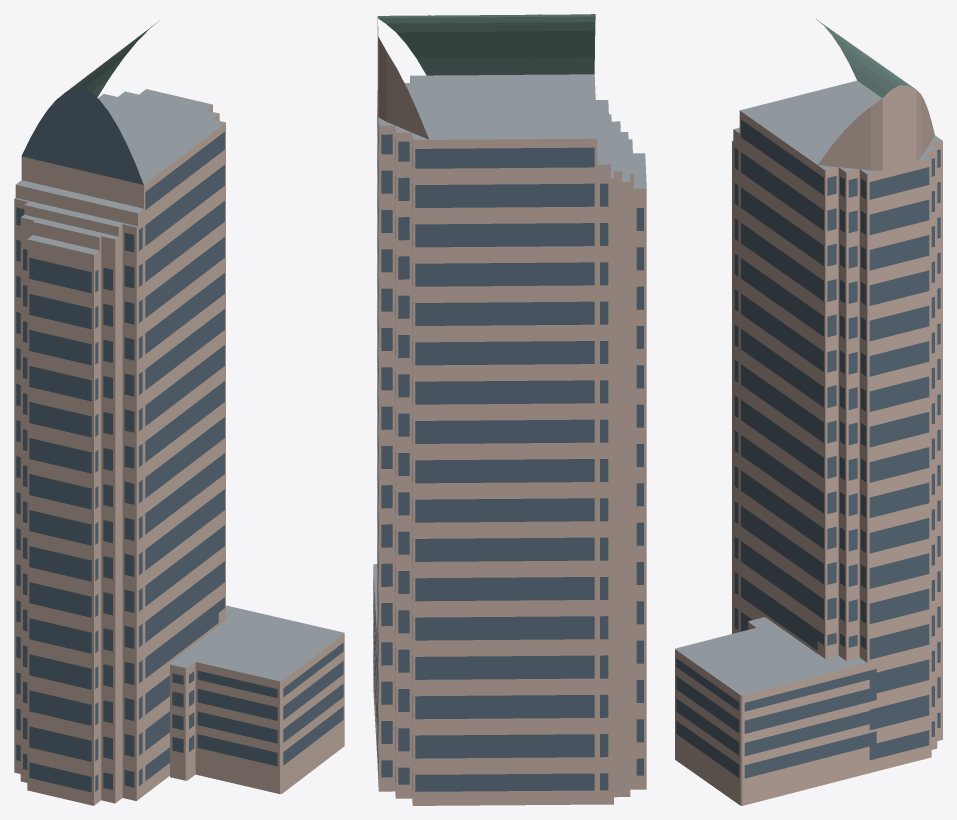
File: detail.glb
The picture shows the model from 3 angles, left to right: view 1: azimuth 30°, elevation 25°; view 2: azimuth 150°, elevation 25°; view 3: azimuth 270°, elevation 25°; orthographic projection. The views are drawn at different scales.
Parts seen in each view (by area): view 1: seattle-municipal-tower; view 2: seattle-municipal-tower; view 3: seattle-municipal-tower.
Part boxes in pixels (x1,y1,x2,y2): seattle-municipal-tower: (14,20,344,805); seattle-municipal-tower: (373,14,646,805); seattle-municipal-tower: (675,19,942,805).
Bounding box in the file's own units: 91.47 × 214 × 76.14.
